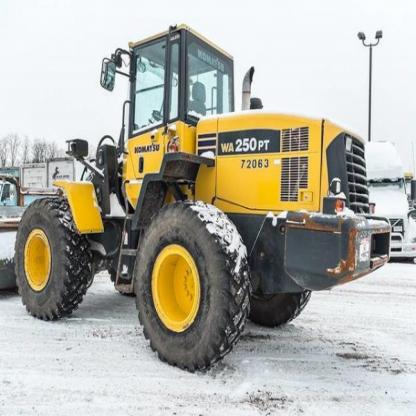bull_dozer/loader/grader: (13, 18, 401, 381)
